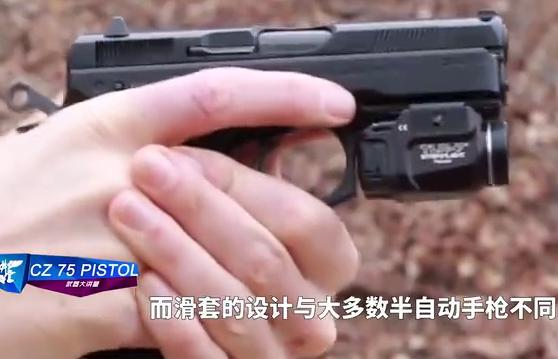gun: (1, 1, 558, 359)
